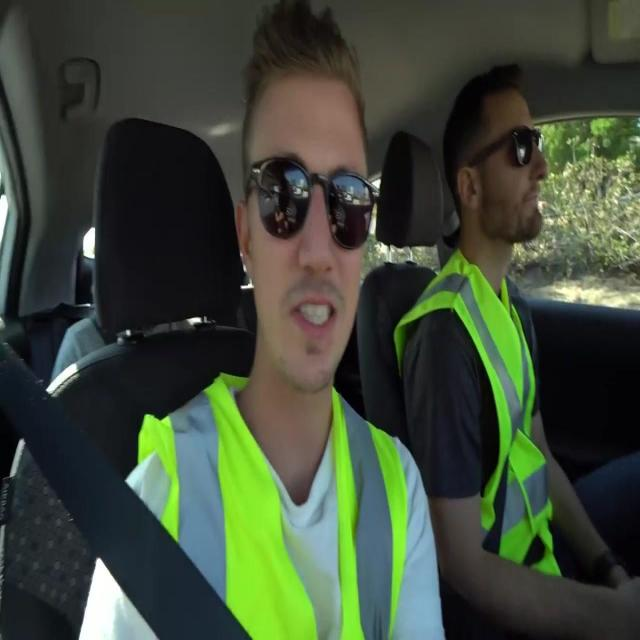Vest: (137, 372, 409, 638), (393, 242, 563, 578)
